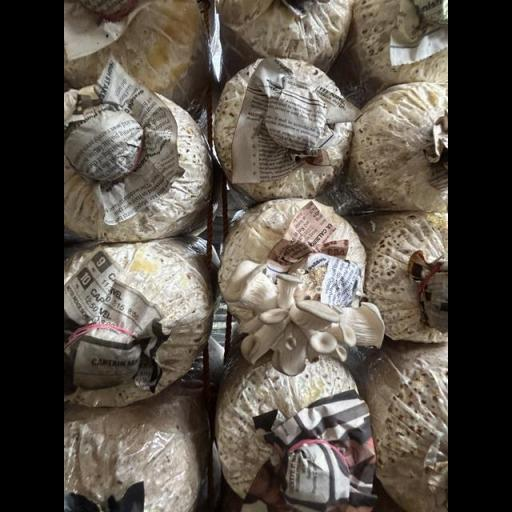White Oyster Mushroom: (220, 257, 388, 380)
